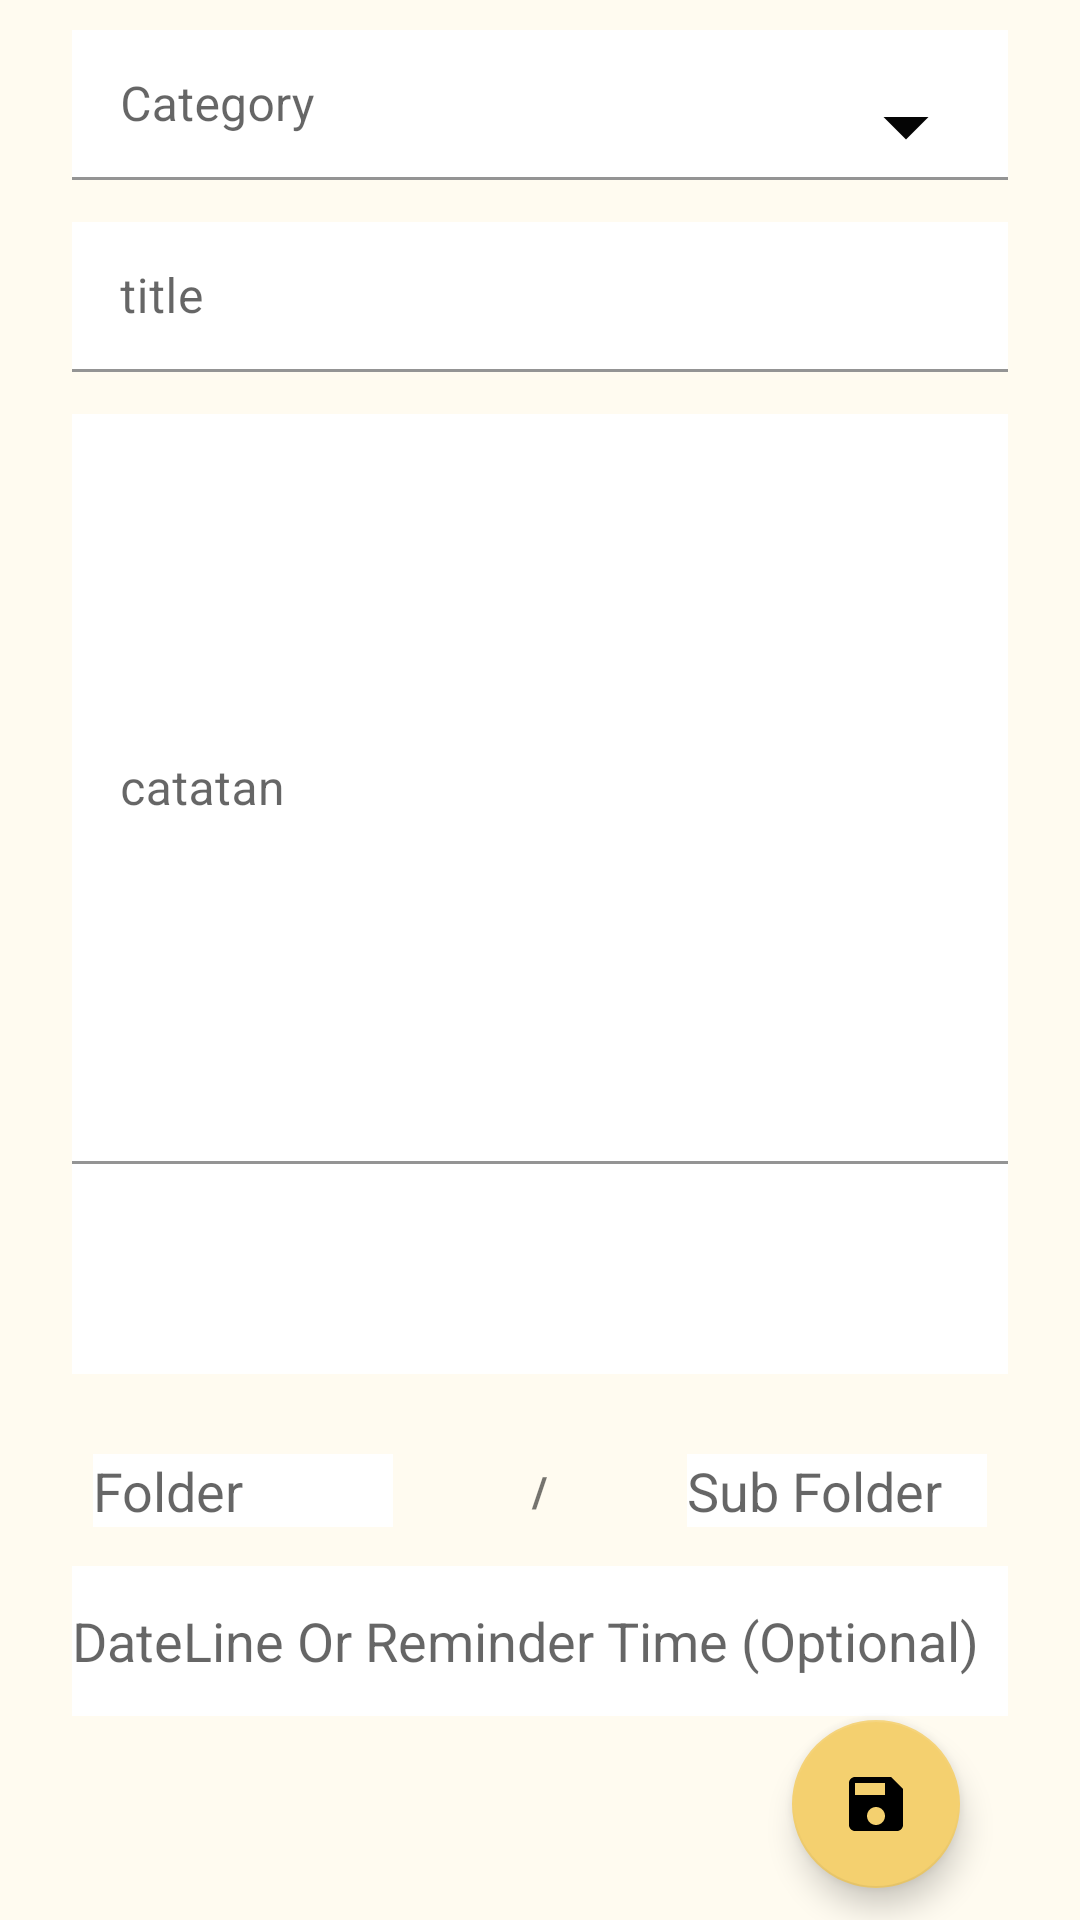

Icons on this 1080x1920 Android screen, each with its box as (left=x1, top=y1, right=x2, bottom=y2):
save: (left=792, top=1720, right=960, bottom=1888)
